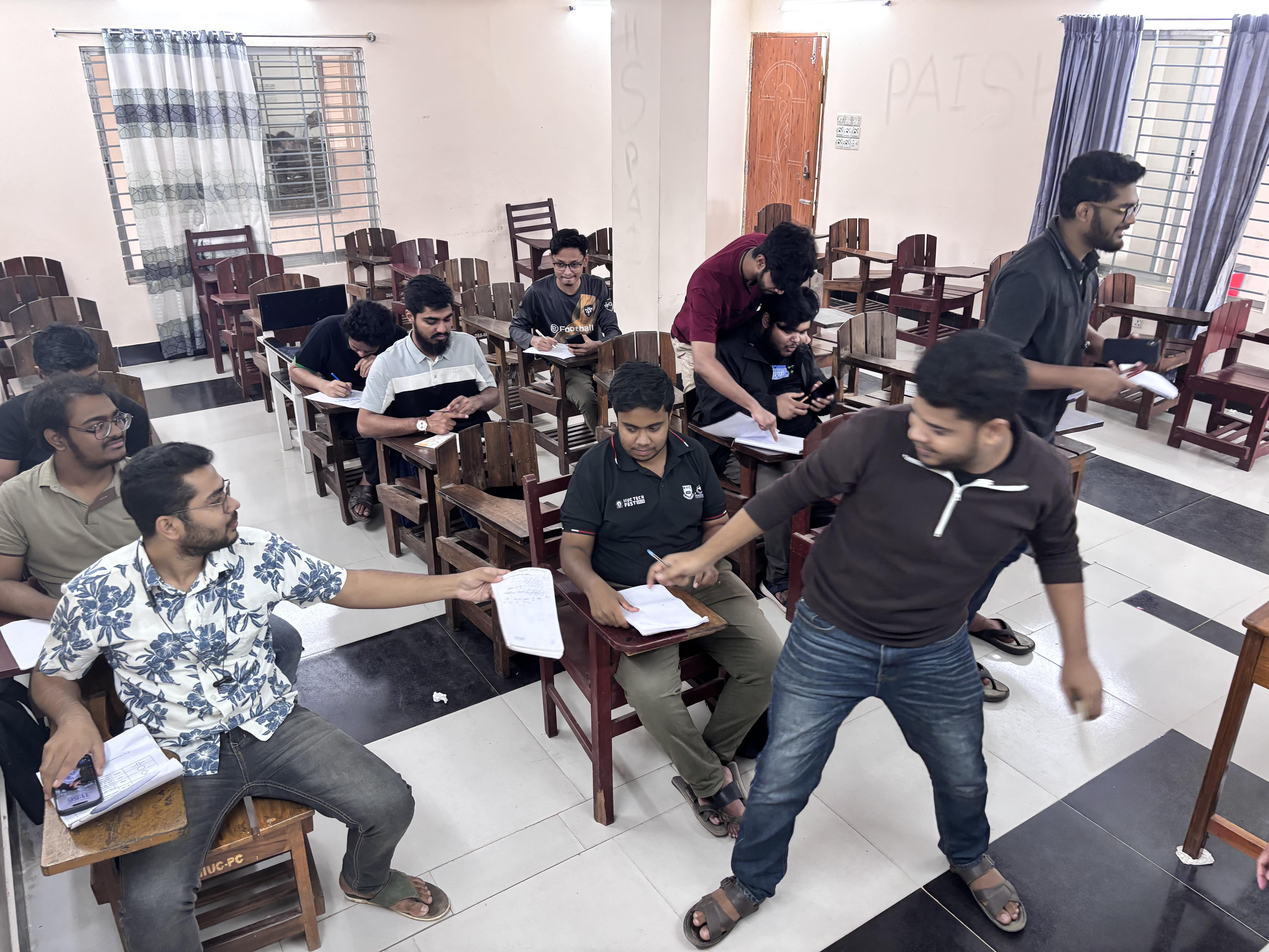copying: (563, 354, 744, 674), (680, 208, 840, 462)
exchanging_sheets: (42, 347, 731, 873)
no_cheating: (979, 139, 1176, 408), (375, 284, 499, 452), (282, 292, 397, 419)
side_talking: (9, 370, 147, 582)
using_phone: (52, 441, 294, 846), (513, 228, 628, 383), (745, 294, 852, 439)
